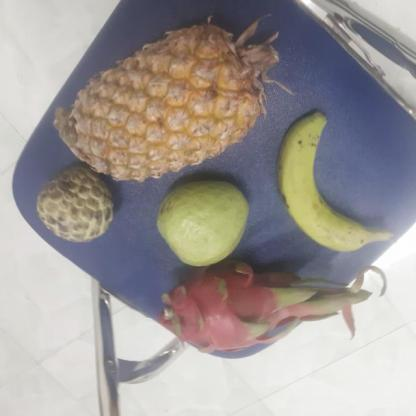annona: (34, 164, 122, 242)
banana: (279, 112, 384, 251)
guava: (157, 181, 252, 265)
pineapple: (65, 28, 276, 181)
pitaya: (159, 262, 302, 358)
